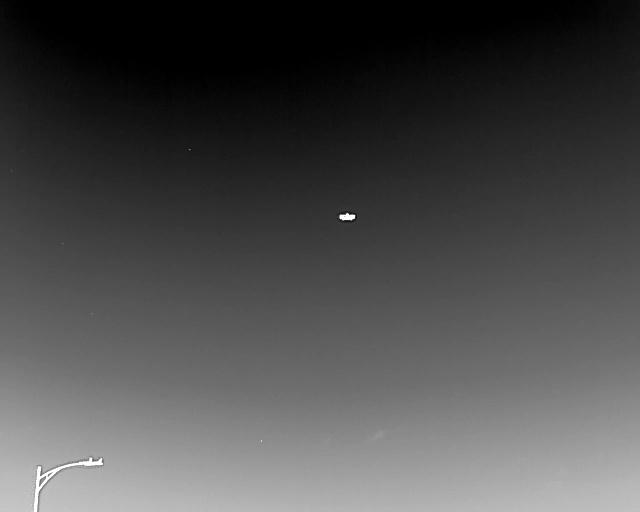fpv-drone: (337, 211, 356, 222)
